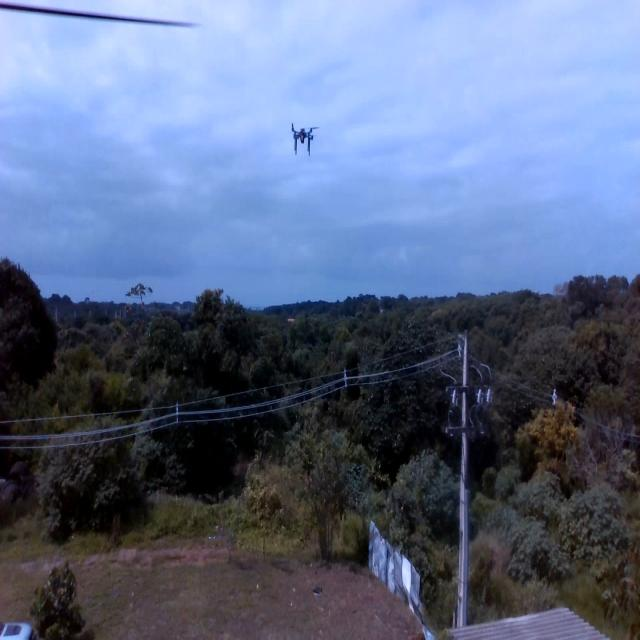-uav-: (281, 111, 326, 165)
